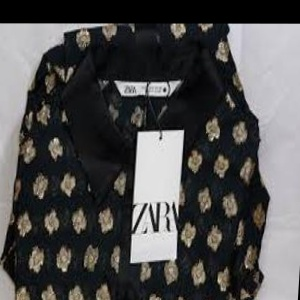zara: (101, 111, 259, 285)
